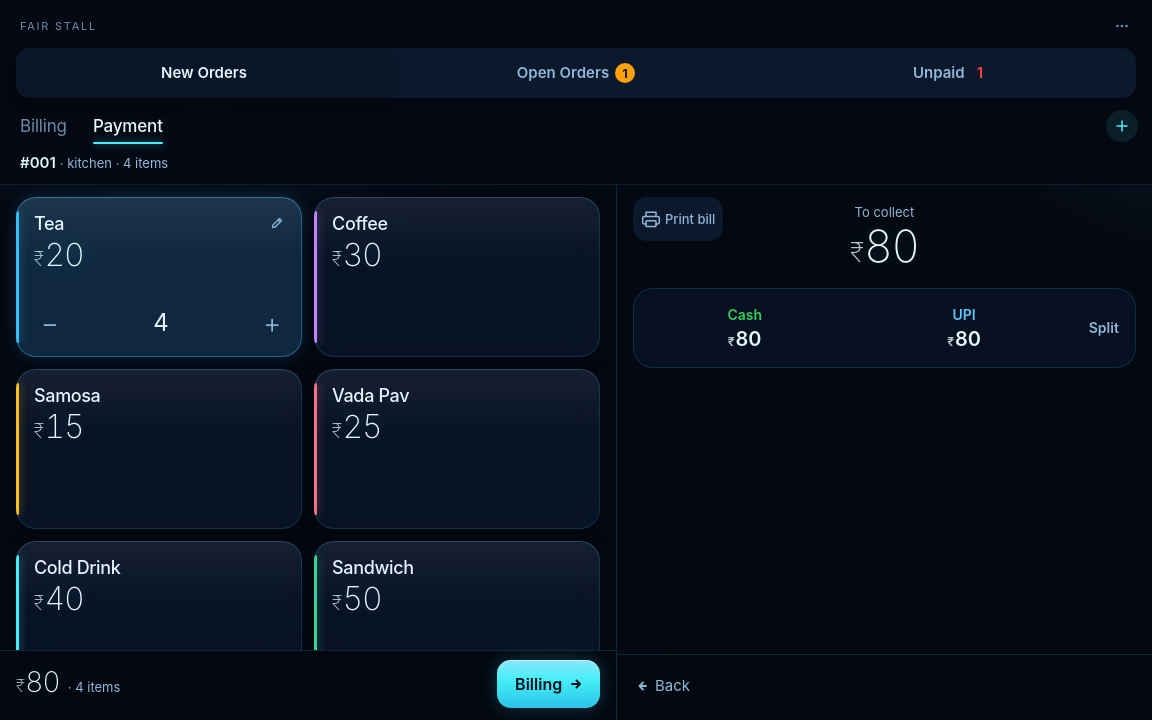
Test: pay5 Cash | UPI | Split (s129b) › Split reveals the boxes, slider, calculator and Tip/Waive; Tip or waive is one tap away in Cash mode
Click the button "Split": click(1104, 328) [1076, 292, 1132, 364]
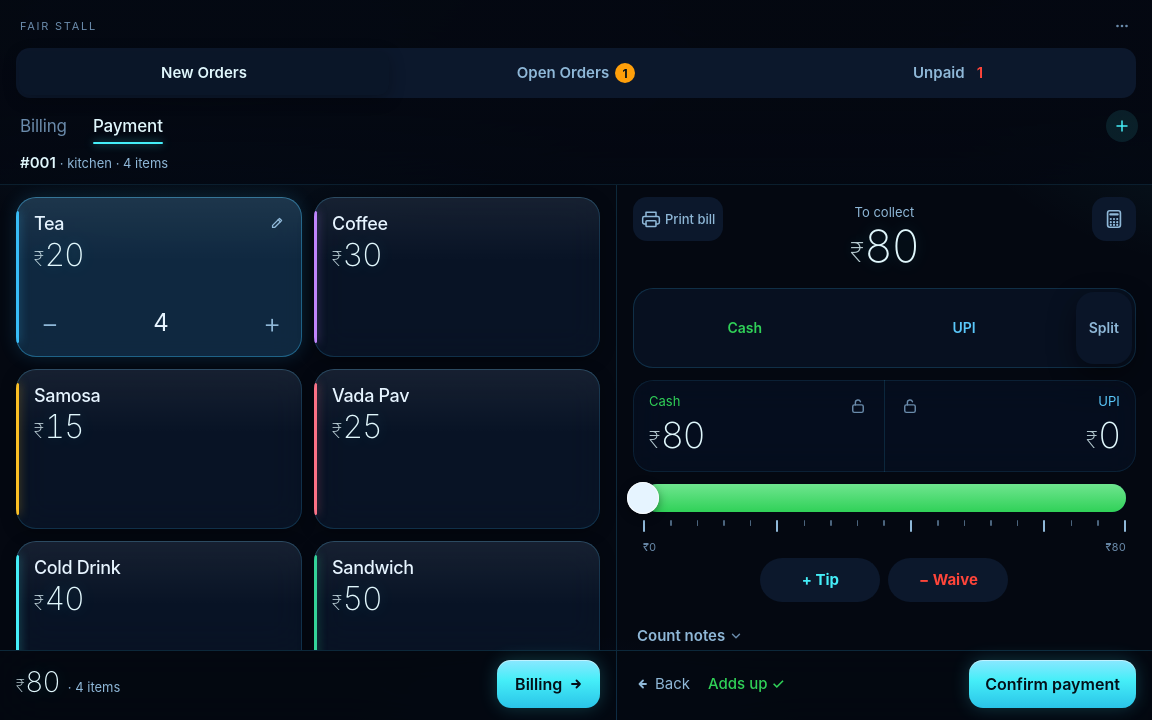
Expected: the slider named "Cash and UPI split" is shown, [643, 484, 1126, 512]
Expected: the button named "Calculator" is shown, [1092, 197, 1136, 241]
Expected: the button "+ Tip" is shown, [761, 558, 881, 602]
Click the button "Cash": click(745, 328) [637, 292, 853, 364]
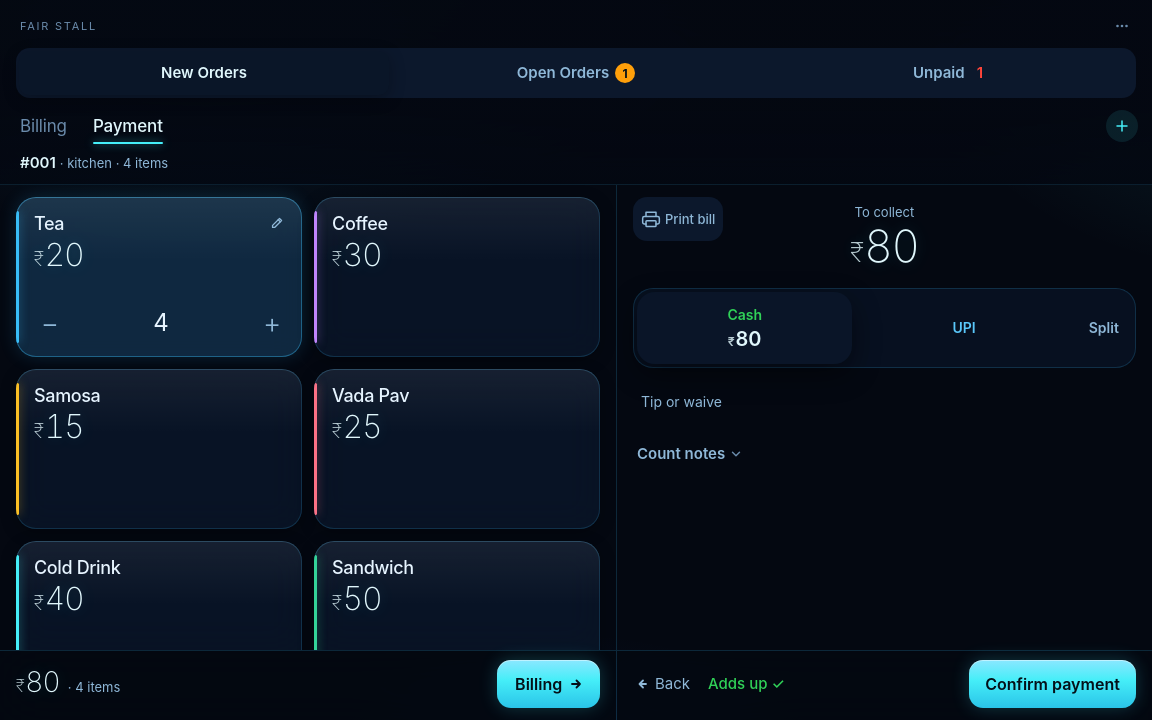
Expected: the button "Tip or waive" is shown
Click the button "Tip or waive": click(682, 402) [633, 380, 730, 424]
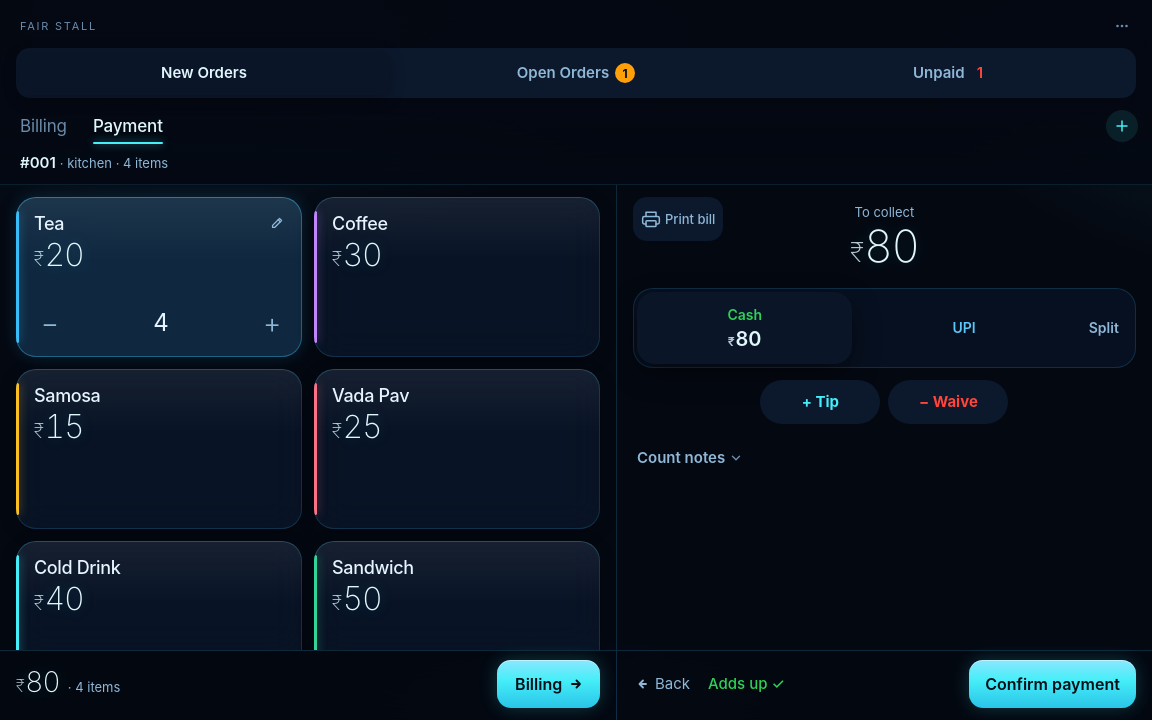
Expected: the button "+ Tip" is shown, [761, 380, 881, 424]
